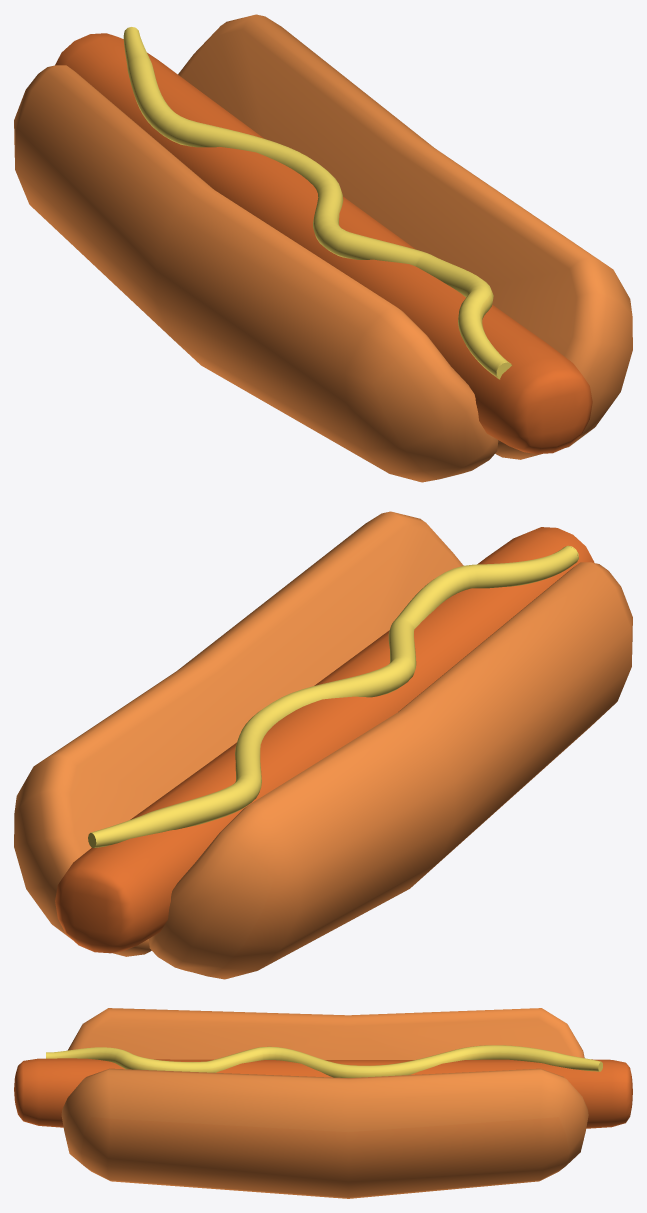
Rendered from HotDog.fbx.
3 renders of one model, top to bottom at view 1: azimuth 30°, elevation 25°; view 2: azimuth 150°, elevation 25°; view 3: azimuth 270°, elevation 25°, orthographic. The views are drawn at different scales.
Visible parts, largest first — view 1: Bread, Sausage, Mustard; view 2: Bread, Sausage, Mustard; view 3: Bread, Sausage, Mustard.
Part boxes in pixels (box(x1,y1,x2,y2)): Bread: box(14, 14, 632, 482); Sausage: box(55, 33, 592, 454); Mustard: box(123, 27, 512, 379); Bread: box(14, 511, 632, 979); Sausage: box(55, 527, 594, 953); Mustard: box(88, 545, 578, 847); Bread: box(61, 1008, 588, 1198); Sausage: box(14, 1058, 632, 1128); Mustard: box(46, 1045, 602, 1077).
Size of the model in its own units: 423 by 286 by 1162.
